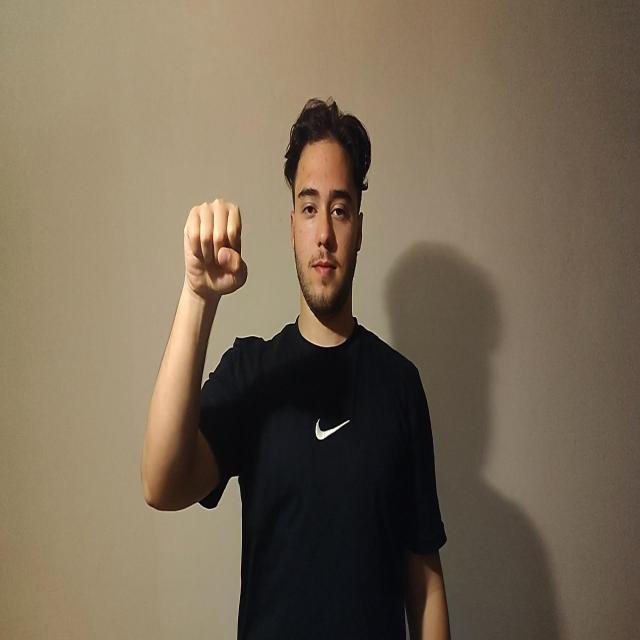yes: (183, 197, 248, 301)
